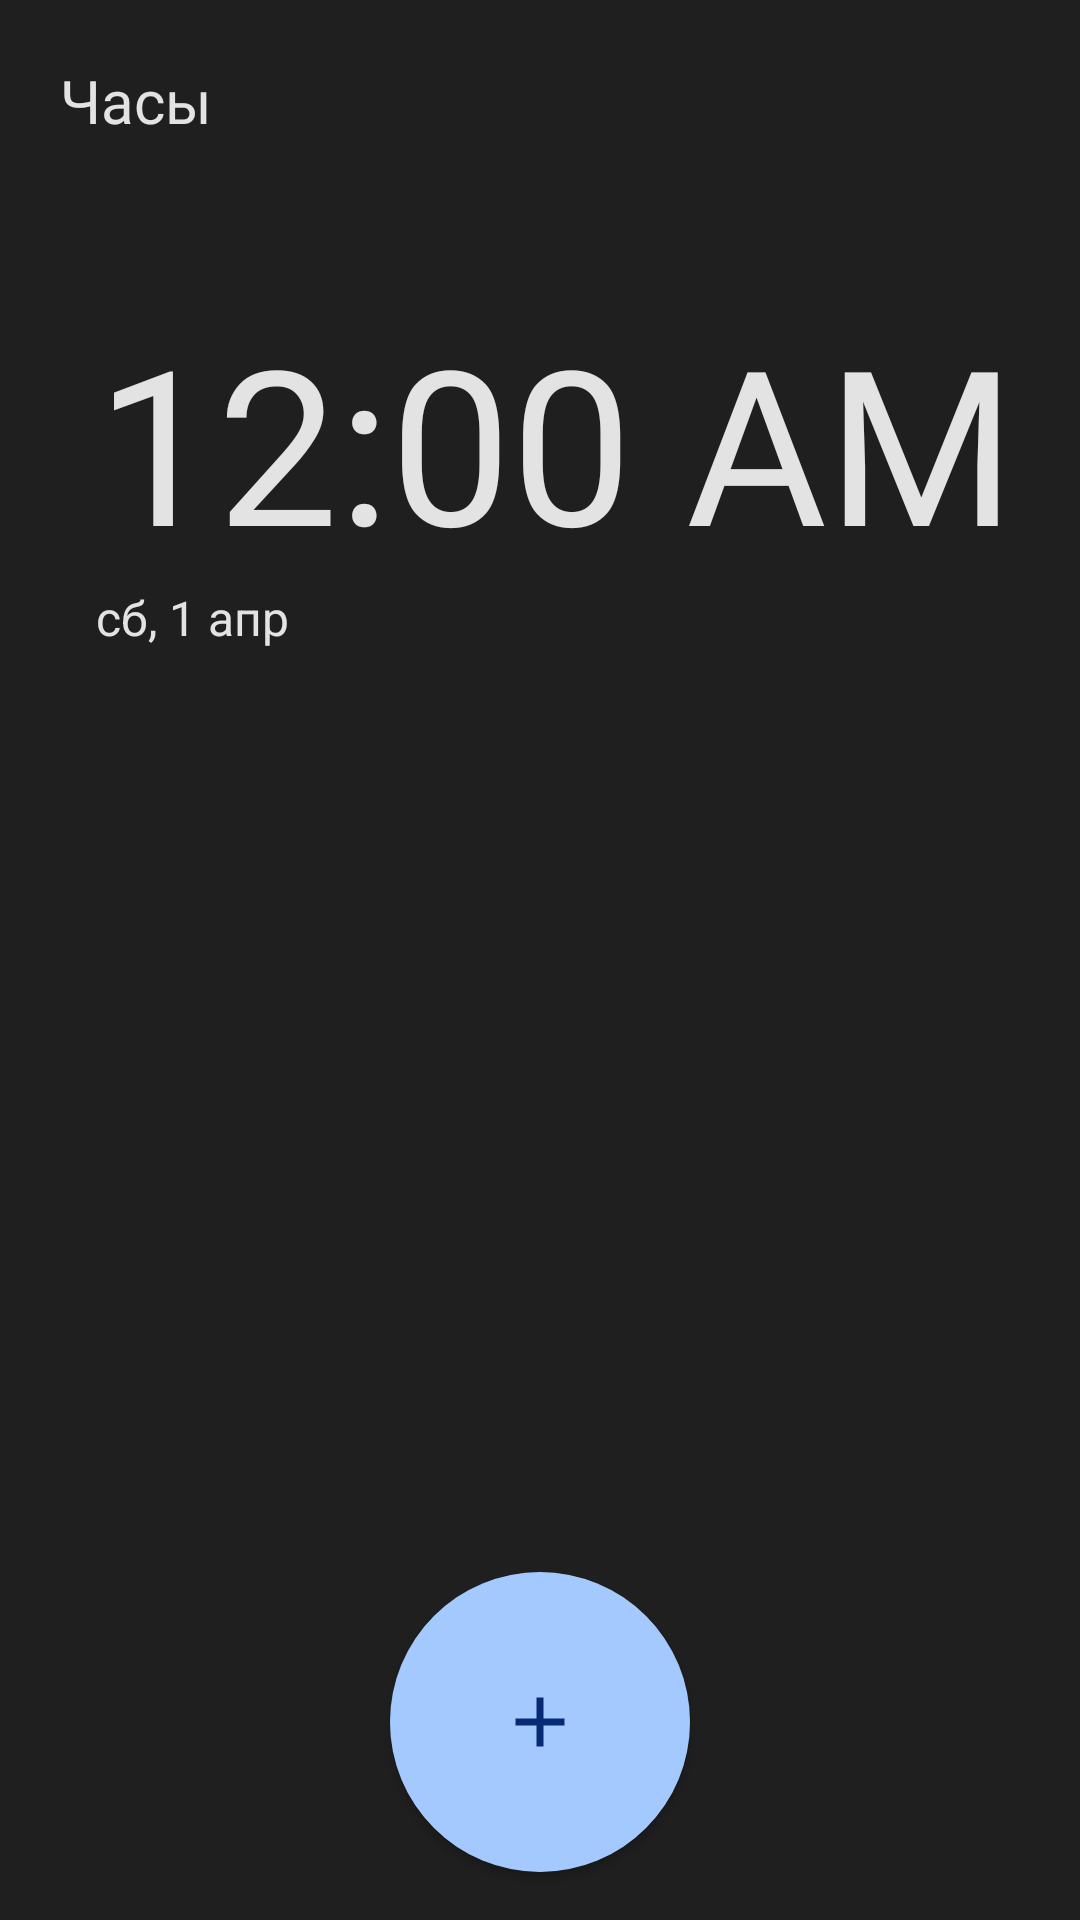

Icons on this 1080px x 1920px Android screen, each with the point to tap as (x,y):
plus: (540,1722)
